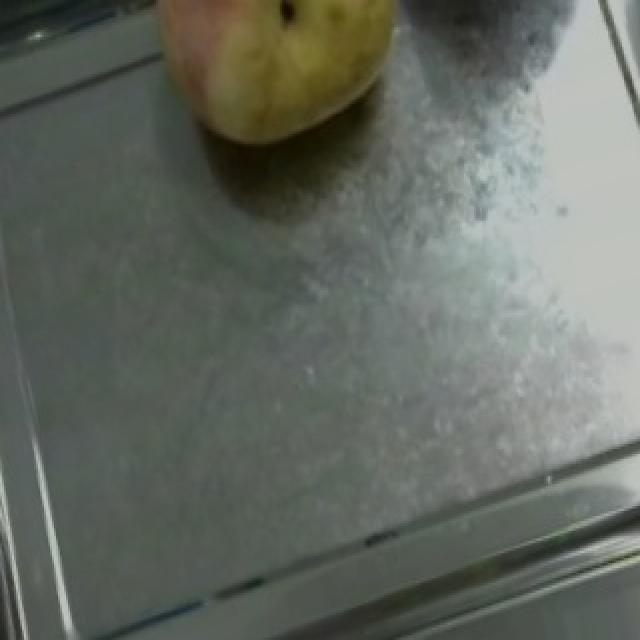Fruit: (118, 0, 432, 186)
